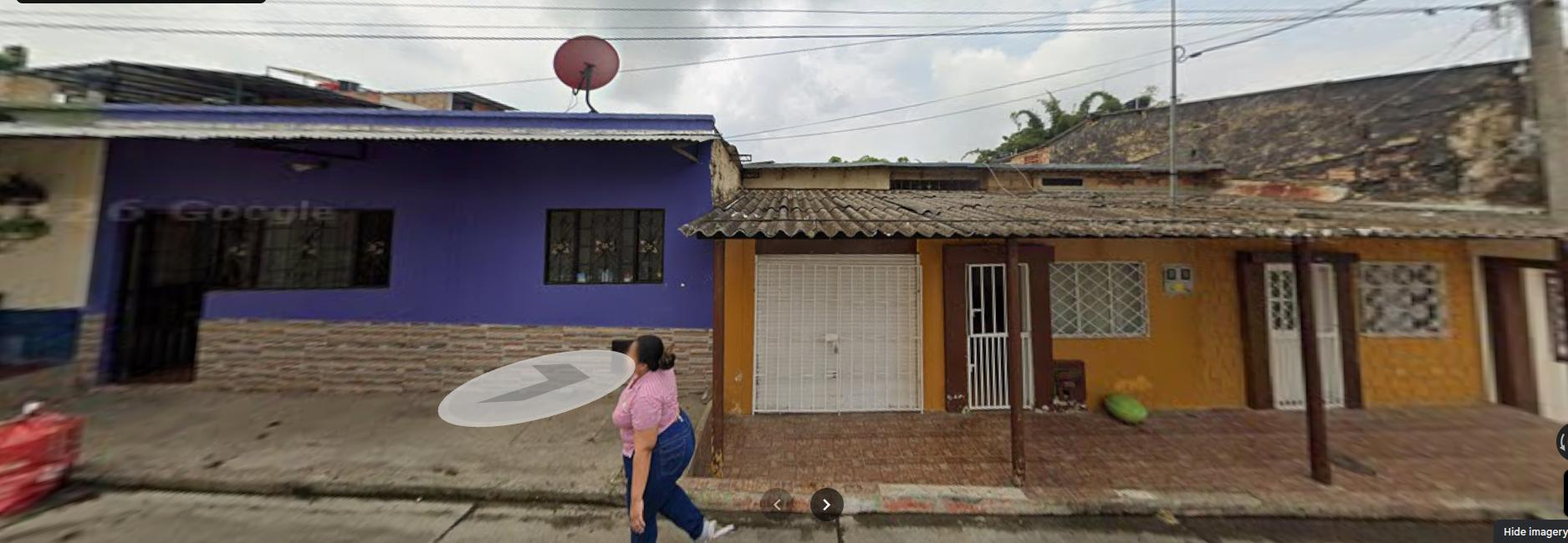casa: (0, 104, 738, 398), (682, 163, 1540, 414)
